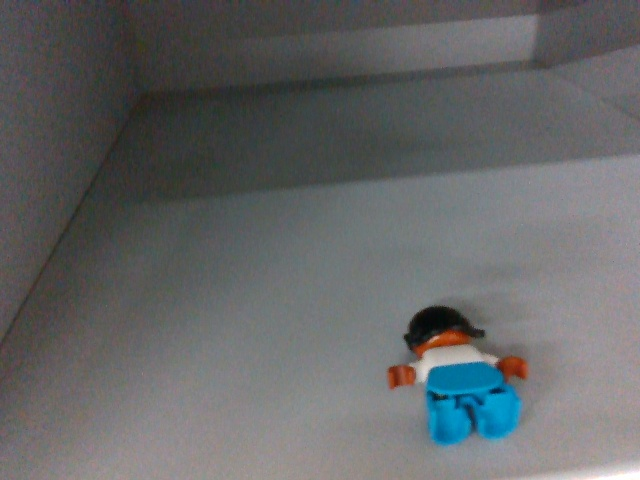people: (386, 302, 531, 445)
